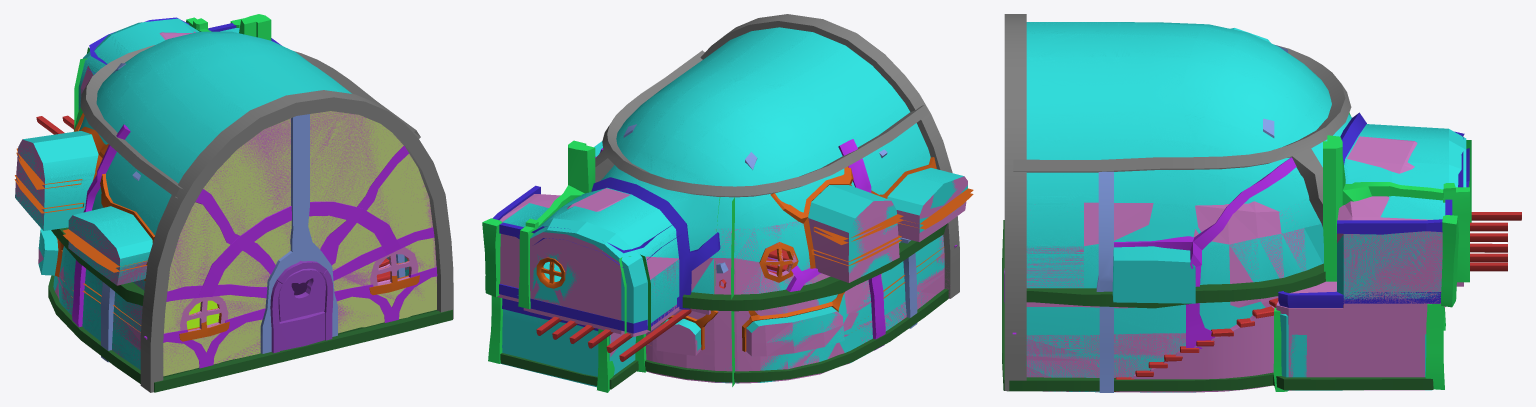
File: SM_HouseIndoors_03.fbx
The picture shows the model from 3 angles, left to right: view 1: azimuth 30°, elevation 25°; view 2: azimuth 150°, elevation 25°; view 3: azimuth 270°, elevation 25°; orthographic projection. The views are drawn at different scales.
Visible parts, largest first — view 1: SM_HouseIndoor_Walls_01, SM_HouseIndoor_Walls_02, ShadowCaster_Walls (×2), SM_HouseIndoor_Timber_01, ShadowCaster_FrontWall, SM_HouseIndoor_Timber_03, SM_HouseIndoor_Timber_23, SM_HouseIndoor_Timber_06, SM_HouseIndoor_Timber_02, SM_HouseIndoor_Timber_07, SM_HouseIndoor_Timber_04, SM_HouseIndoor_Door (+11 smaller); view 2: SM_HouseIndoor_Walls_01, ShadowCaster_Walls (×2), SM_HouseIndoor_Timber_02, SM_HouseIndoor_Timber_01, SM_HouseIndoor_Timber_03, SM_HouseIndoor_Timber_09, SM_HouseIndoor_Timber_26, SM_HouseIndoor_ShelfFrames_01, SM_HouseIndoor_Timber_08, SM_HouseIndoor_Timber_11, SM_HouseIndoor_ShelfPlanks_01, SM_HouseIndoor_Skirting_01 (+11 smaller); view 3: SM_HouseIndoor_Walls_01, ShadowCaster_Walls (×2), SM_HouseIndoor_Timber_01, SM_HouseIndoor_Timber_02, SM_HouseIndoor_Timber_03, SM_HouseIndoor_StaircaseBase, SM_HouseIndoor_Timber_09, SM_HouseIndoor_Timber_11, SM_HouseIndoor_Timber_23, SM_HouseIndoor_Timber_22, SM_HouseIndoor_Timber_27, SM_HouseIndoor_Timber_19 (+7 smaller).
Part boxes in pixels (x1,y1,x2,y2): SM_HouseIndoor_Walls_01: (15, 18, 409, 369); SM_HouseIndoor_Walls_02: (163, 111, 436, 376); ShadowCaster_Walls (×2): (15, 19, 409, 367); SM_HouseIndoor_Timber_01: (140, 90, 453, 392); ShadowCaster_FrontWall: (163, 111, 436, 372); SM_HouseIndoor_Timber_03: (48, 275, 452, 392); SM_HouseIndoor_Timber_23: (100, 63, 405, 362); SM_HouseIndoor_Timber_06: (166, 146, 434, 301); SM_HouseIndoor_Timber_02: (80, 45, 420, 198); SM_HouseIndoor_Timber_07: (199, 201, 400, 296); SM_HouseIndoor_Timber_04: (144, 267, 437, 368); SM_HouseIndoor_Door: (278, 268, 325, 321); SM_HouseIndoor_Walls_01: (501, 27, 967, 387); ShadowCaster_Walls (×2): (497, 27, 967, 383); SM_HouseIndoor_Timber_02: (595, 50, 929, 197); SM_HouseIndoor_Timber_01: (700, 14, 959, 298); SM_HouseIndoor_Timber_03: (500, 288, 948, 389); SM_HouseIndoor_Timber_09: (682, 224, 947, 311); SM_HouseIndoor_Timber_26: (591, 177, 720, 309); SM_HouseIndoor_ShelfFrames_01: (660, 157, 936, 351); SM_HouseIndoor_Timber_08: (786, 139, 885, 350); SM_HouseIndoor_Timber_11: (537, 140, 595, 226); SM_HouseIndoor_ShelfPlanks_01: (811, 188, 973, 266); SM_HouseIndoor_Skirting_01: (499, 284, 679, 333); SM_HouseIndoor_Walls_01: (1026, 22, 1466, 392); ShadowCaster_Walls (×2): (1026, 22, 1466, 392); SM_HouseIndoor_Timber_01: (1004, 14, 1026, 390); SM_HouseIndoor_Timber_02: (1013, 45, 1351, 226); SM_HouseIndoor_Timber_03: (1002, 220, 1433, 391); SM_HouseIndoor_StaircaseBase: (1116, 281, 1463, 392); SM_HouseIndoor_Timber_09: (1026, 263, 1325, 308); SM_HouseIndoor_Timber_11: (1323, 135, 1443, 281); SM_HouseIndoor_Timber_23: (1096, 45, 1288, 392); SM_HouseIndoor_Timber_22: (1114, 157, 1296, 348); SM_HouseIndoor_Timber_27: (1337, 199, 1452, 234); SM_HouseIndoor_Timber_19: (1443, 183, 1469, 282).
Bounding box in the file's own units: 1777 × 1302 × 2087.
